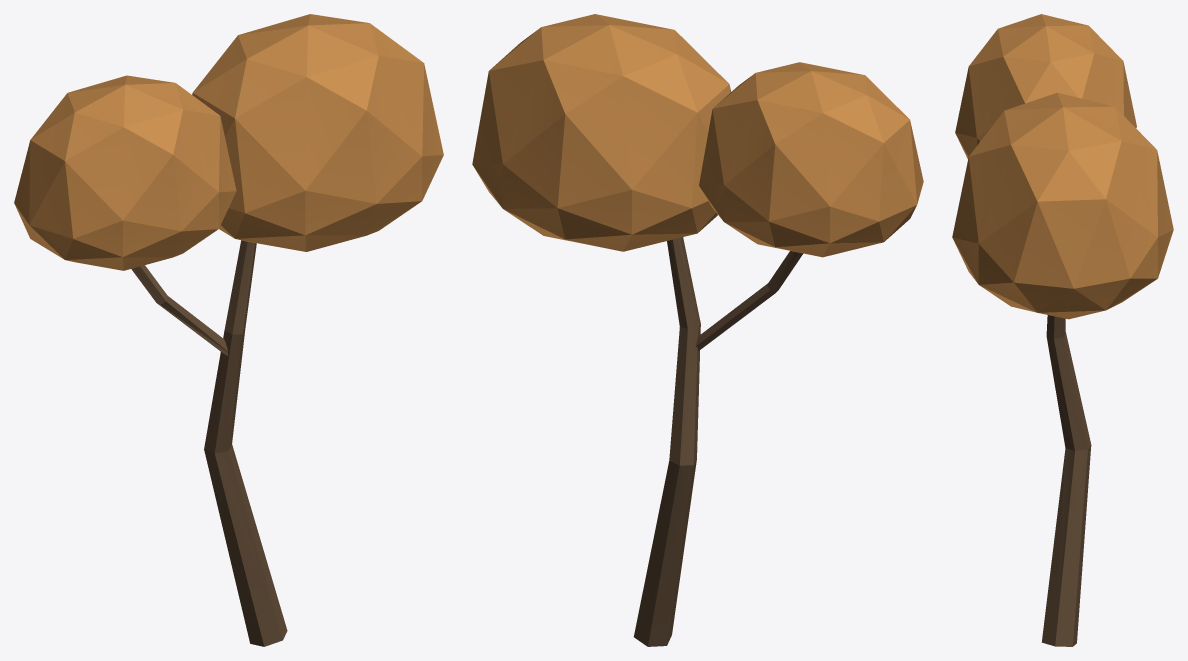
Rendered from tree_orange_5.glb.
The picture shows the model from 3 angles, left to right: view 1: azimuth 30°, elevation 25°; view 2: azimuth 150°, elevation 25°; view 3: azimuth 270°, elevation 25°; orthographic projection. The views are drawn at different scales.
Parts seen in each view (by area): view 1: Tree Orange 6; view 2: Tree Orange 6; view 3: Tree Orange 6.
Boxes of the visible parts, x1,y1,x2,y2 form: Tree Orange 6: (14,14,443,646); Tree Orange 6: (472,14,923,646); Tree Orange 6: (952,14,1173,646).
Size of the model in its own units: 0.2075 by 0.2882 by 0.1037.
